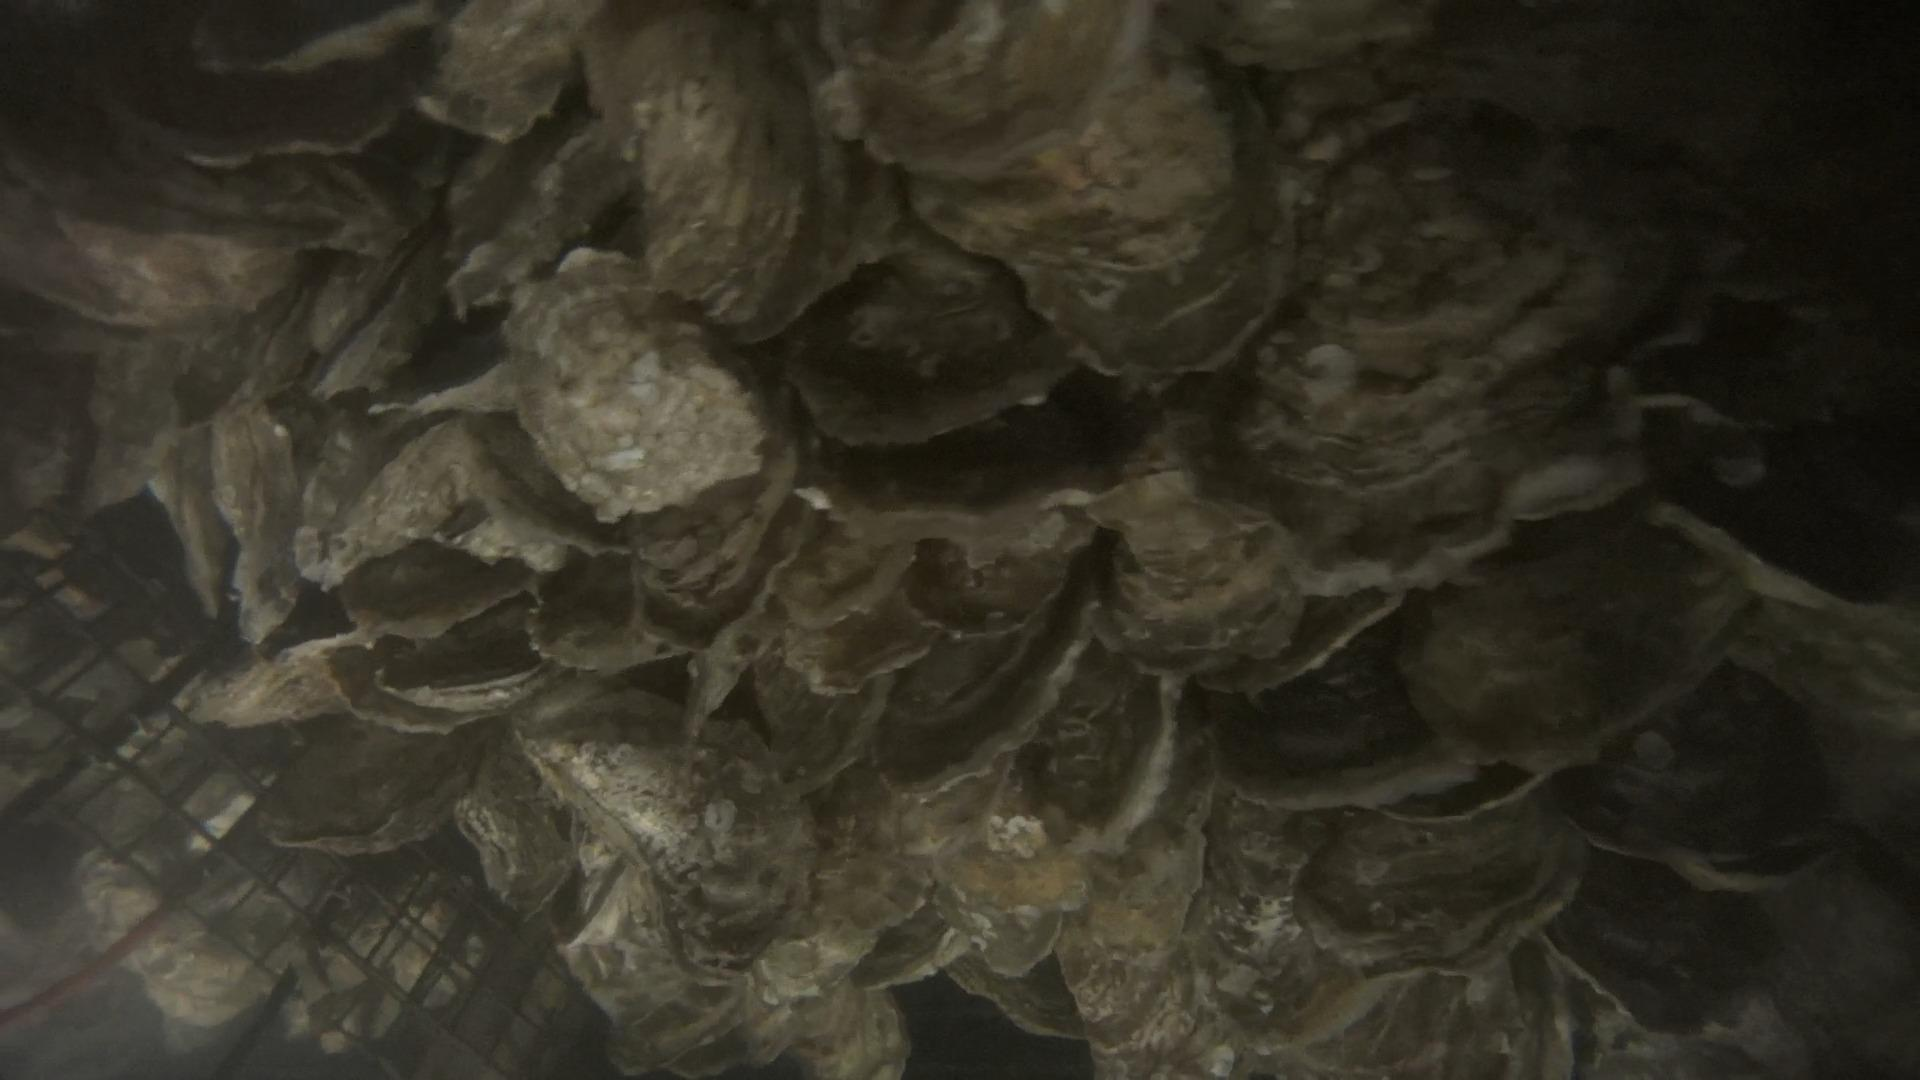3: (873, 547, 1110, 800), (1316, 789, 1582, 978), (305, 218, 446, 400)
Oyster- Indeterminate: (1197, 115, 1700, 599), (910, 29, 1245, 367), (1407, 506, 1755, 767), (945, 819, 1261, 1080), (789, 164, 1076, 450), (502, 273, 769, 513), (0, 125, 298, 318), (1222, 611, 1473, 807), (1089, 471, 1308, 680)
Oyster-Closed: (522, 703, 795, 971), (448, 87, 607, 311)
